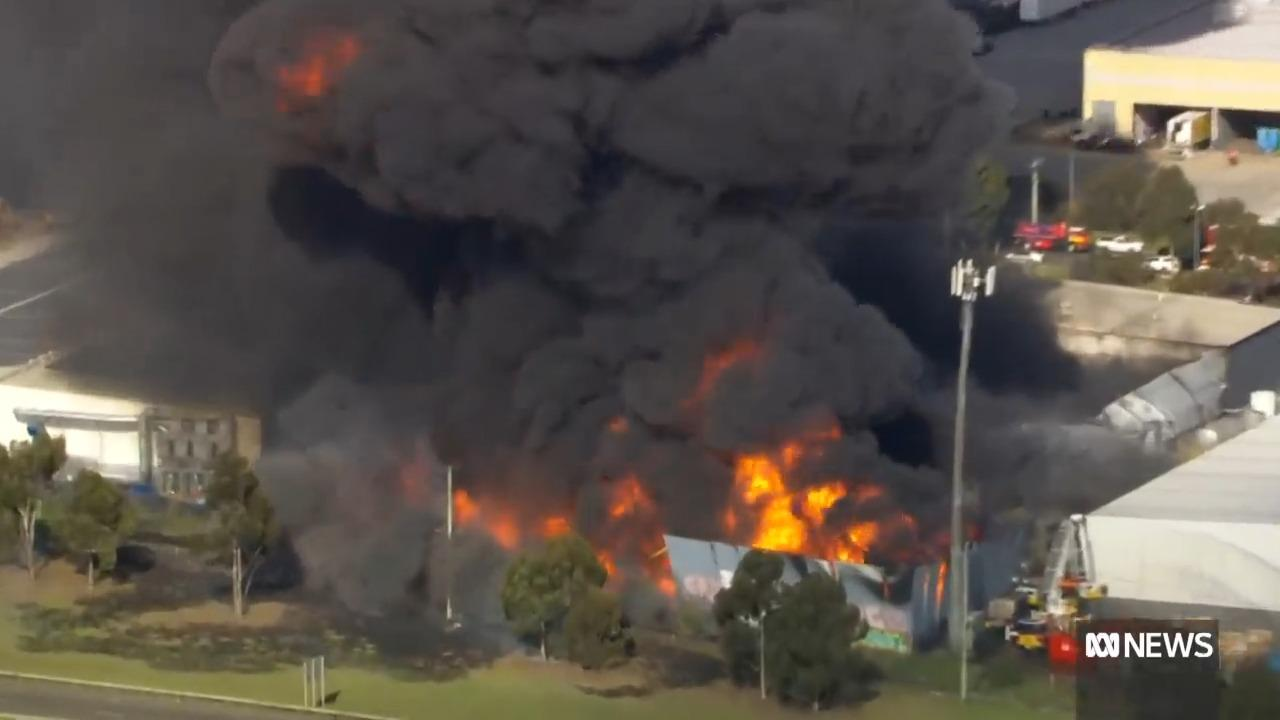fire: (449, 470, 691, 592), (723, 432, 875, 552)
